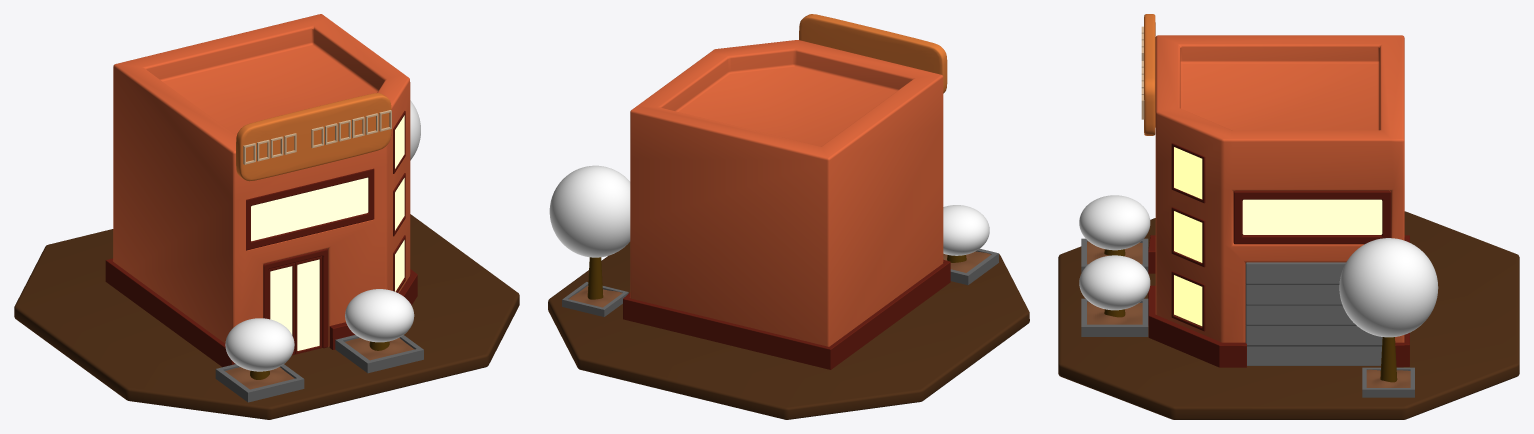
Rendered from post_office_2.glb.
3 renders of one model, left to right at view 1: azimuth 30°, elevation 25°; view 2: azimuth 150°, elevation 25°; view 3: azimuth 270°, elevation 25°, orthographic. The views are drawn at different scales.
Visible parts, largest first — view 1: Cube.009, Cube.002, Cube.012, Cube.021, Cube.017, Cube.026, Sphere.005, Sphere.029, Cube.019, Text, Cube.184, Cube.078 (+7 smaller); view 2: Cube.009, Cube.002, Cube.017, Sphere, Cube.012, Sphere.029, Cube.018, Cube.184, Cylinder.014, Plane.055, Plane.065; view 3: Cube.009, Cube.002, Cube.014, Sphere, Cube.023, Cube.022, Cube.017, Cube.200, Sphere.005, Sphere.029, Cube.015, Cube.012 (+6 smaller).
Part boxes in pixels (left/top/right/bottom): Cube.009: left=113, top=14, right=410, bottom=346; Cube.002: left=14, top=214, right=519, bottom=419; Cube.012: left=236, top=93, right=391, bottom=181; Cube.021: left=251, top=177, right=368, bottom=241; Cube.017: left=105, top=258, right=417, bottom=367; Cube.026: left=270, top=259, right=319, bottom=350; Sphere.005: left=345, top=289, right=414, bottom=342; Sphere.029: left=225, top=318, right=294, bottom=371; Cube.019: left=246, top=168, right=374, bottom=250; Text: left=243, top=110, right=391, bottom=164; Cube.184: left=215, top=364, right=304, bottom=402; Cube.078: left=335, top=335, right=423, bottom=373; Cube.009: left=630, top=40, right=943, bottom=346; Cube.002: left=548, top=242, right=1029, bottom=419; Cube.017: left=623, top=259, right=950, bottom=369; Sphere: left=549, top=165, right=630, bottom=257; Cube.012: left=799, top=14, right=947, bottom=93; Sphere.029: left=943, top=205, right=989, bottom=255; Cube.018: left=562, top=282, right=628, bottom=316; Cube.184: left=950, top=248, right=998, bottom=285; Cylinder.014: left=587, top=257, right=603, bottom=299; Plane.055: left=569, top=286, right=622, bottom=307; Plane.065: left=943, top=251, right=991, bottom=272; Cube.009: left=1155, top=35, right=1404, bottom=342; Cube.002: left=1058, top=211, right=1519, bottom=419; Cube.014: left=1245, top=262, right=1382, bottom=365; Sphere: left=1339, top=238, right=1438, bottom=337; Cube.023: left=1242, top=199, right=1382, bottom=234; Cube.022: left=1233, top=190, right=1391, bottom=244; Cube.017: left=1148, top=235, right=1409, bottom=367; Cube.200: left=1174, top=147, right=1202, bottom=325; Sphere.005: left=1079, top=255, right=1150, bottom=310; Sphere.029: left=1079, top=195, right=1150, bottom=250; Cube.015: left=1171, top=143, right=1205, bottom=331; Cube.012: left=1144, top=14, right=1155, bottom=135.
Bounding box in the file's own units: 7.37 × 4.61 × 7.27.
